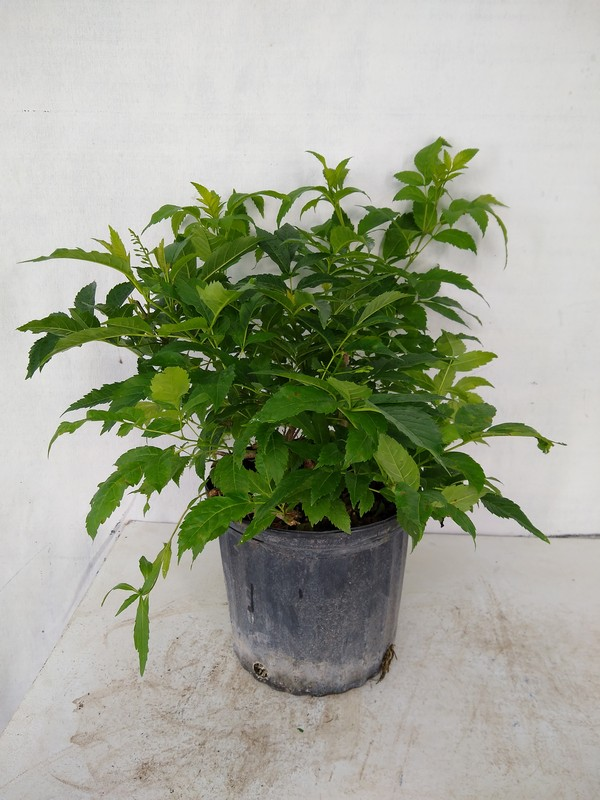plant: (17, 137, 558, 552)
pot: (214, 515, 412, 698)
